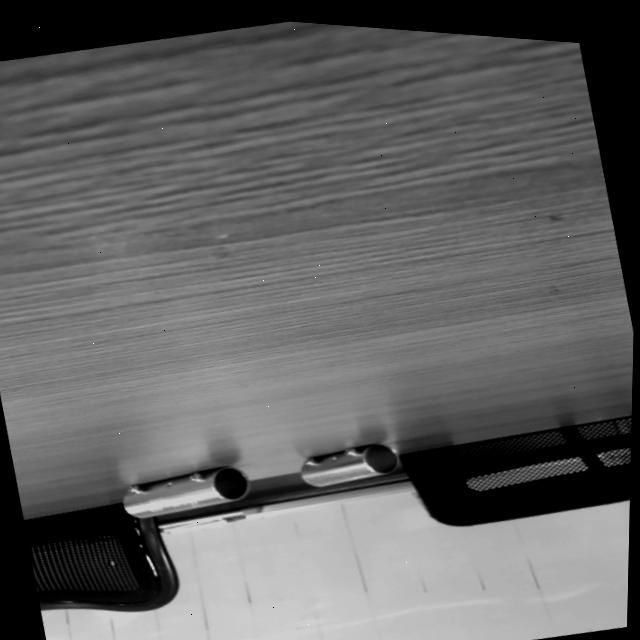Co_Lon: (119, 462, 251, 521)
Co_Nho: (297, 439, 400, 490)
